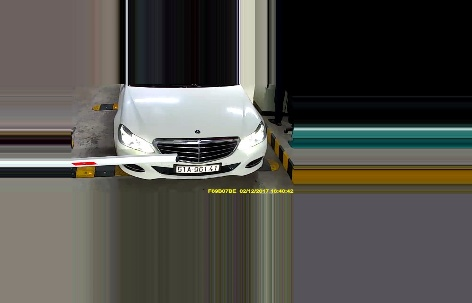plate: (173, 163, 220, 175)
